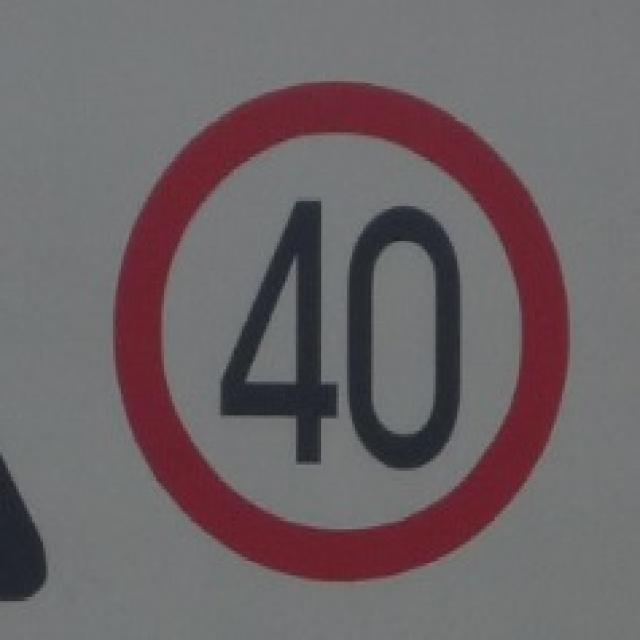Speed Limit -40-: (215, 190, 470, 470)
